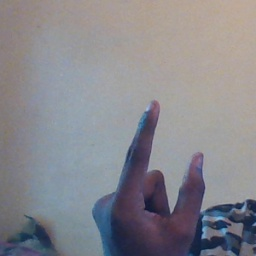U: (86, 99, 211, 251)
